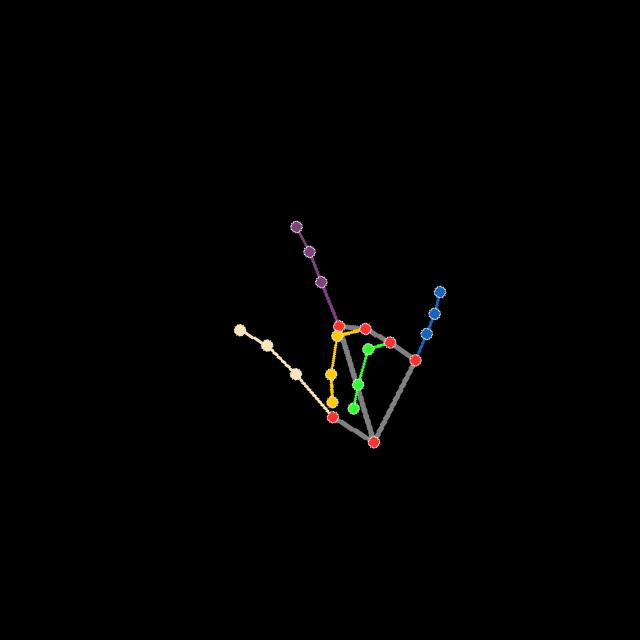spiderman: (232, 217, 450, 451)
